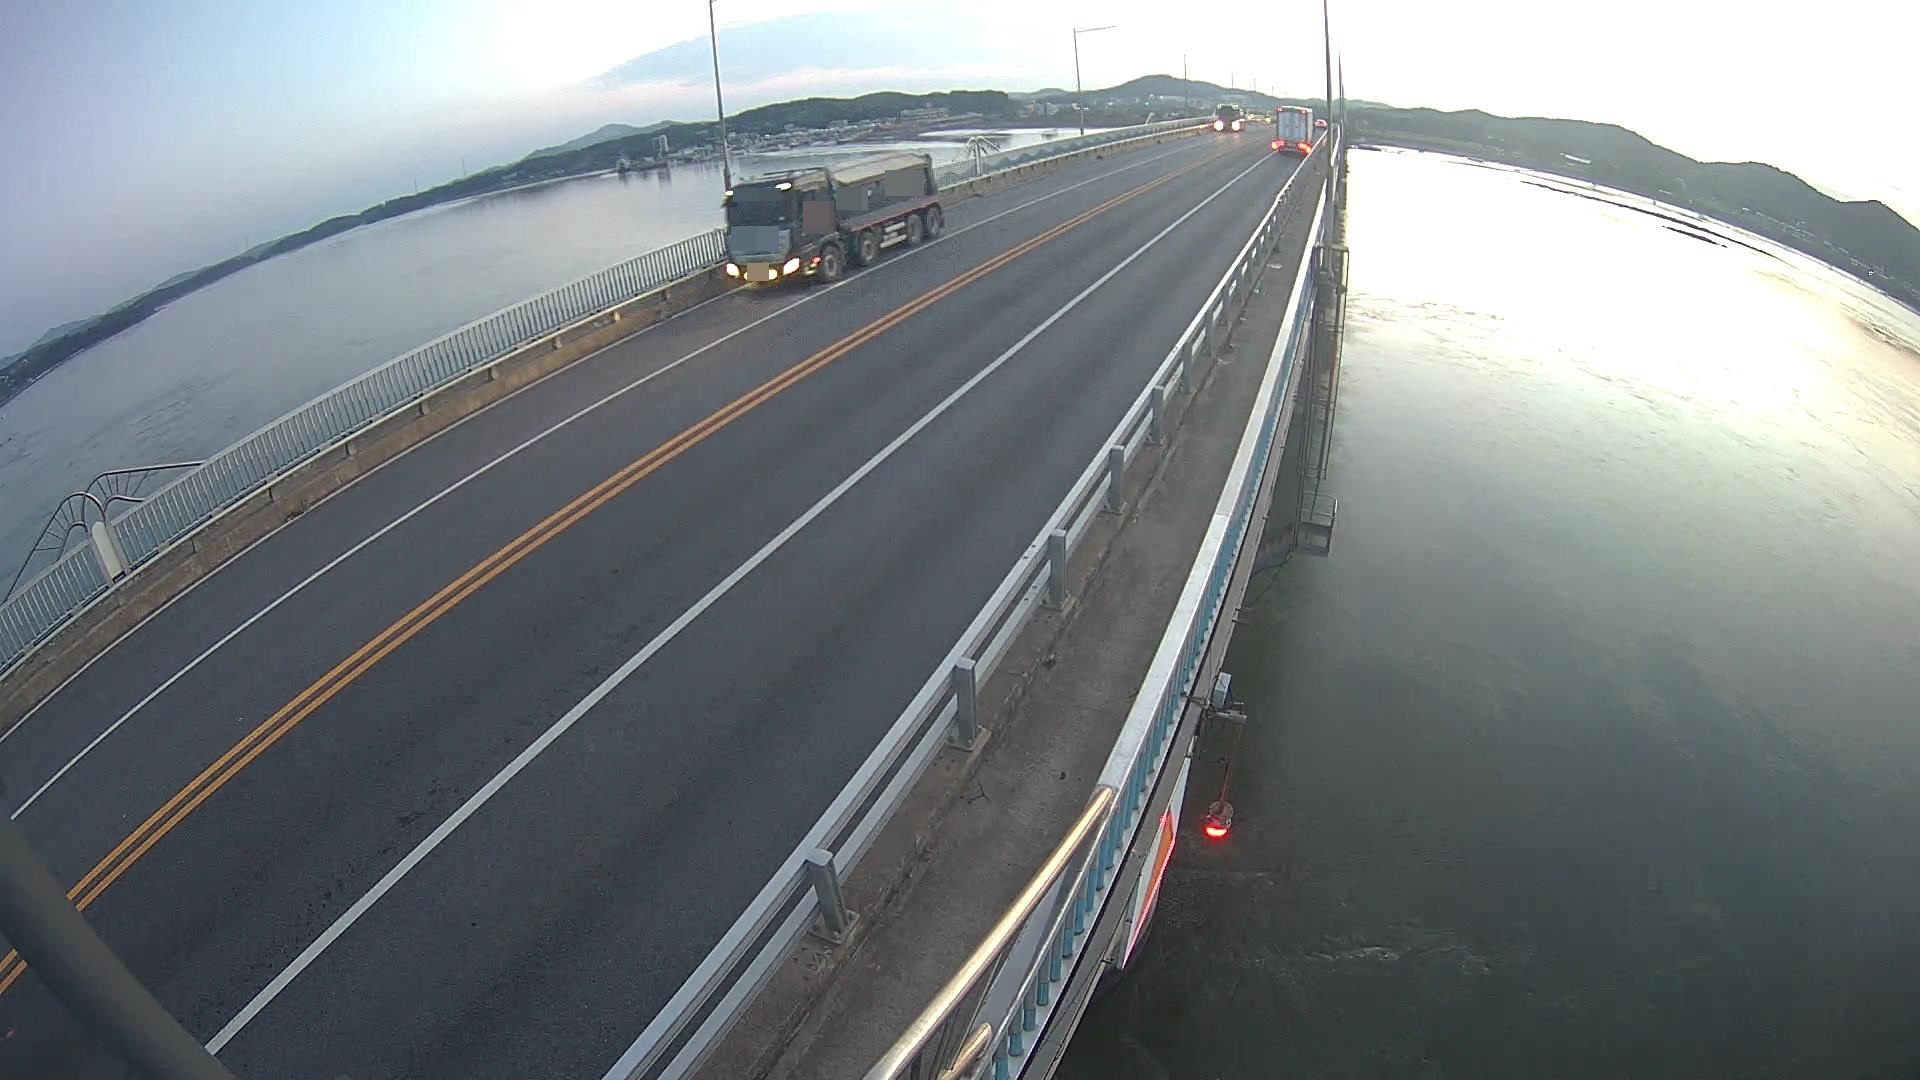정상차량: (722, 150, 946, 285)
